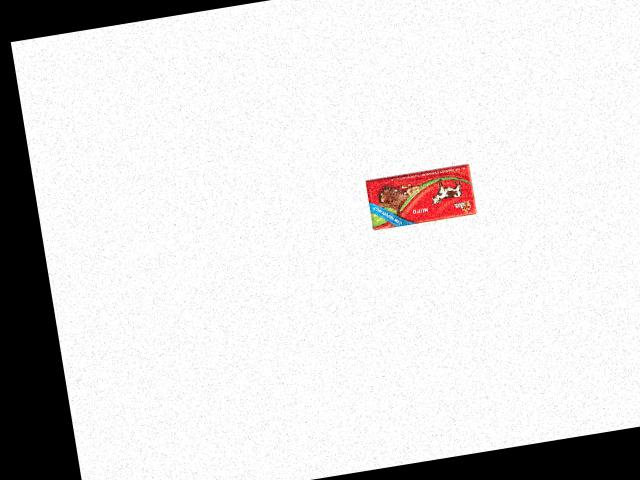chocolate: (366, 164, 481, 231)
